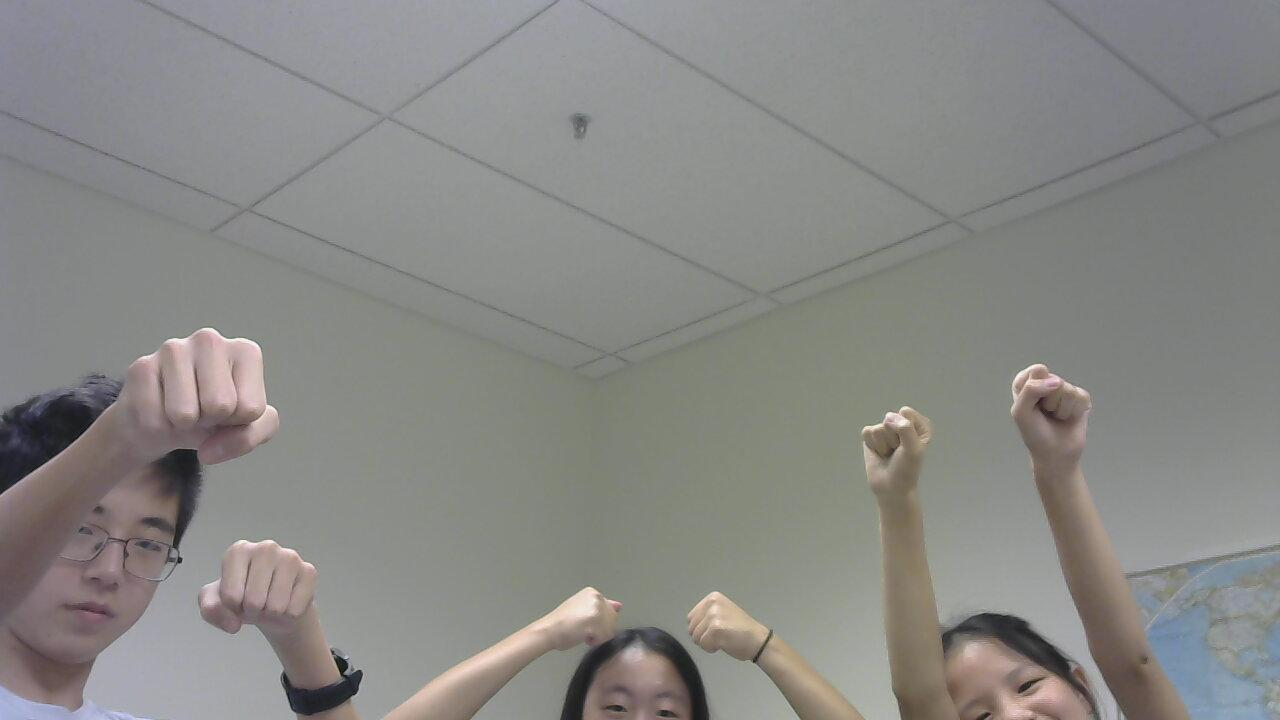fist: (116, 322, 301, 466), (201, 519, 341, 634), (993, 352, 1109, 466), (846, 392, 969, 496), (673, 582, 772, 679), (528, 579, 620, 654)
